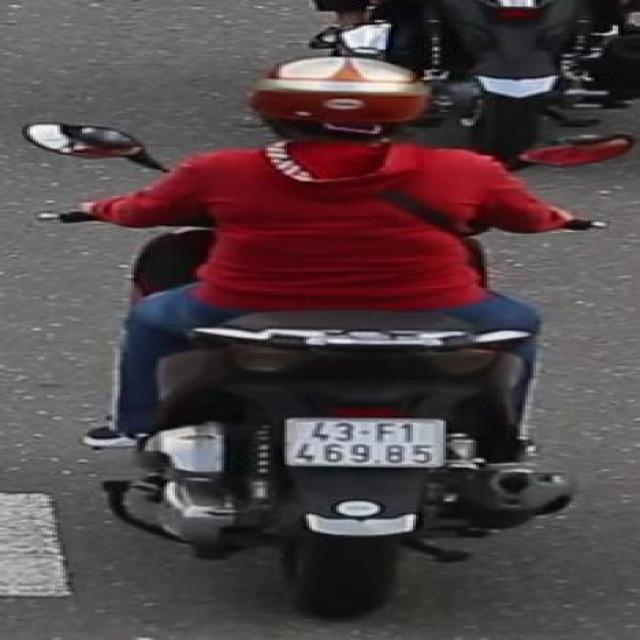LP: (279, 412, 451, 470)
helmet: (246, 50, 440, 154)
